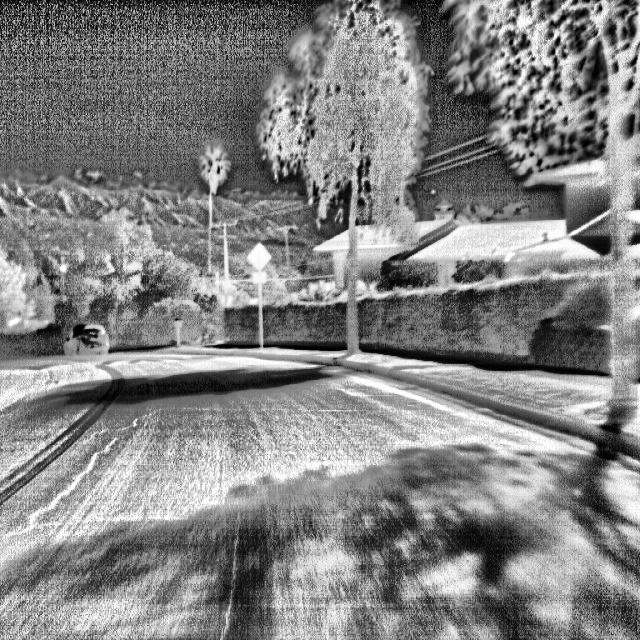car: (56, 321, 113, 368)
mail box: (159, 310, 193, 348)
